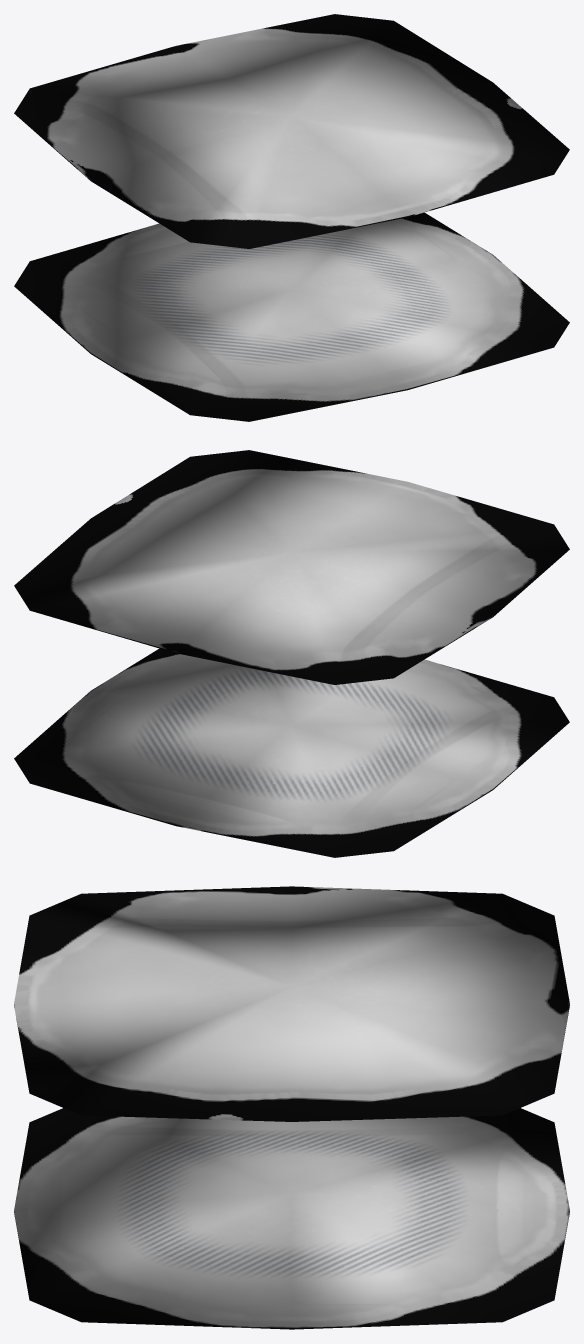
File: LeftUpperArm_C2.fbx
3 views of the same model, one above another, from view 1: azimuth 30°, elevation 25°; view 2: azimuth 150°, elevation 25°; view 3: azimuth 270°, elevation 25° (orthographic). The views are drawn at different scales.
Visible parts, largest first — view 1: Civ_CamisaCuadros_LeftUpperArm_C2; view 2: Civ_CamisaCuadros_LeftUpperArm_C2; view 3: Civ_CamisaCuadros_LeftUpperArm_C2.
Part boxes in pixels (box(x1,y1,x2,y2)): Civ_CamisaCuadros_LeftUpperArm_C2: box(14, 14, 569, 421); Civ_CamisaCuadros_LeftUpperArm_C2: box(14, 450, 569, 857); Civ_CamisaCuadros_LeftUpperArm_C2: box(14, 886, 569, 1329).
Bounding box in the file's own units: 1.21 × 0.5824 × 1.21.
